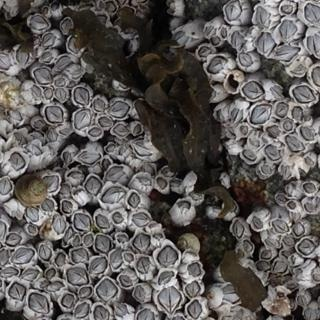Barnacle: (157, 285, 181, 313), (98, 116, 129, 137), (96, 276, 116, 303), (156, 244, 177, 267), (27, 292, 49, 313), (66, 265, 88, 286), (248, 102, 270, 123), (219, 282, 241, 302), (243, 81, 264, 101), (280, 19, 300, 40), (256, 33, 275, 55), (290, 84, 313, 102), (101, 185, 126, 201), (304, 2, 320, 27), (206, 55, 227, 74), (133, 138, 155, 156), (7, 281, 27, 300), (223, 0, 241, 21), (255, 6, 270, 31), (108, 101, 130, 118), (10, 248, 33, 264), (8, 151, 26, 171), (275, 46, 298, 61), (133, 233, 151, 252), (44, 105, 63, 123), (306, 33, 320, 57), (73, 85, 88, 107), (73, 213, 91, 231), (42, 175, 60, 193), (73, 108, 91, 126), (33, 67, 51, 85), (53, 54, 73, 70), (89, 256, 106, 274), (263, 144, 281, 161), (285, 135, 303, 152), (91, 304, 110, 320), (131, 211, 151, 226), (71, 247, 88, 264), (85, 176, 101, 194), (96, 233, 111, 252), (109, 247, 123, 267), (270, 218, 290, 232), (105, 167, 125, 181), (230, 30, 243, 51), (298, 239, 315, 255), (29, 15, 48, 29), (188, 298, 201, 318), (231, 220, 245, 238), (52, 216, 66, 234), (15, 47, 29, 65), (25, 206, 40, 222), (266, 123, 282, 138), (42, 32, 58, 47), (185, 280, 199, 297), (136, 257, 150, 274), (80, 150, 98, 163), (74, 302, 88, 318), (229, 107, 243, 123), (93, 97, 107, 113), (291, 104, 304, 121), (21, 268, 39, 280), (68, 35, 80, 53), (159, 270, 174, 284), (300, 126, 314, 141), (238, 53, 253, 67), (26, 144, 42, 157), (137, 308, 154, 320), (271, 261, 288, 273), (39, 243, 51, 260), (62, 227, 74, 244), (270, 83, 282, 100), (96, 214, 110, 228), (61, 293, 74, 308), (187, 262, 200, 277), (275, 102, 288, 117), (115, 302, 127, 318), (134, 285, 145, 302), (0, 177, 11, 194), (0, 52, 11, 69), (6, 233, 20, 246), (39, 198, 53, 211), (174, 31, 188, 44), (265, 236, 280, 248), (38, 51, 53, 63), (7, 109, 21, 121), (60, 18, 72, 32), (47, 127, 58, 142), (280, 163, 290, 179), (305, 307, 317, 320), (78, 286, 91, 298), (128, 193, 140, 206), (260, 164, 273, 176), (55, 88, 67, 101), (198, 46, 211, 58), (230, 309, 244, 320), (292, 63, 306, 74), (0, 267, 17, 276), (161, 167, 176, 177), (240, 150, 255, 160), (0, 249, 9, 265), (303, 181, 315, 193), (14, 132, 26, 144), (60, 200, 71, 213), (60, 181, 71, 194), (68, 170, 81, 181), (280, 3, 293, 14), (293, 221, 303, 235), (248, 137, 258, 151), (31, 86, 41, 100), (176, 199, 191, 208), (119, 275, 131, 286), (45, 267, 56, 279), (252, 217, 264, 228), (60, 151, 71, 163), (32, 119, 44, 130), (211, 88, 222, 100), (70, 68, 82, 79), (95, 12, 106, 24), (302, 202, 315, 212), (138, 174, 151, 184), (303, 154, 313, 167), (106, 0, 116, 13), (255, 262, 269, 271), (56, 251, 65, 265), (112, 212, 123, 223), (276, 194, 287, 205), (204, 24, 215, 35), (88, 126, 100, 136), (49, 281, 62, 290), (157, 177, 166, 190), (281, 236, 295, 244), (115, 234, 126, 244), (73, 189, 85, 198), (44, 88, 53, 100), (215, 108, 223, 121), (123, 252, 133, 262), (83, 234, 93, 244), (27, 225, 37, 235), (49, 1, 59, 11), (260, 249, 271, 258), (243, 240, 252, 251), (171, 179, 182, 188), (105, 142, 116, 151), (240, 124, 249, 135), (287, 183, 295, 195), (133, 123, 141, 135), (101, 158, 110, 168), (54, 78, 65, 86), (297, 295, 306, 304), (290, 211, 299, 220), (118, 146, 127, 155), (210, 36, 219, 45), (284, 120, 292, 130), (169, 0, 176, 11), (49, 145, 55, 156), (315, 195, 320, 208), (313, 273, 320, 281)
